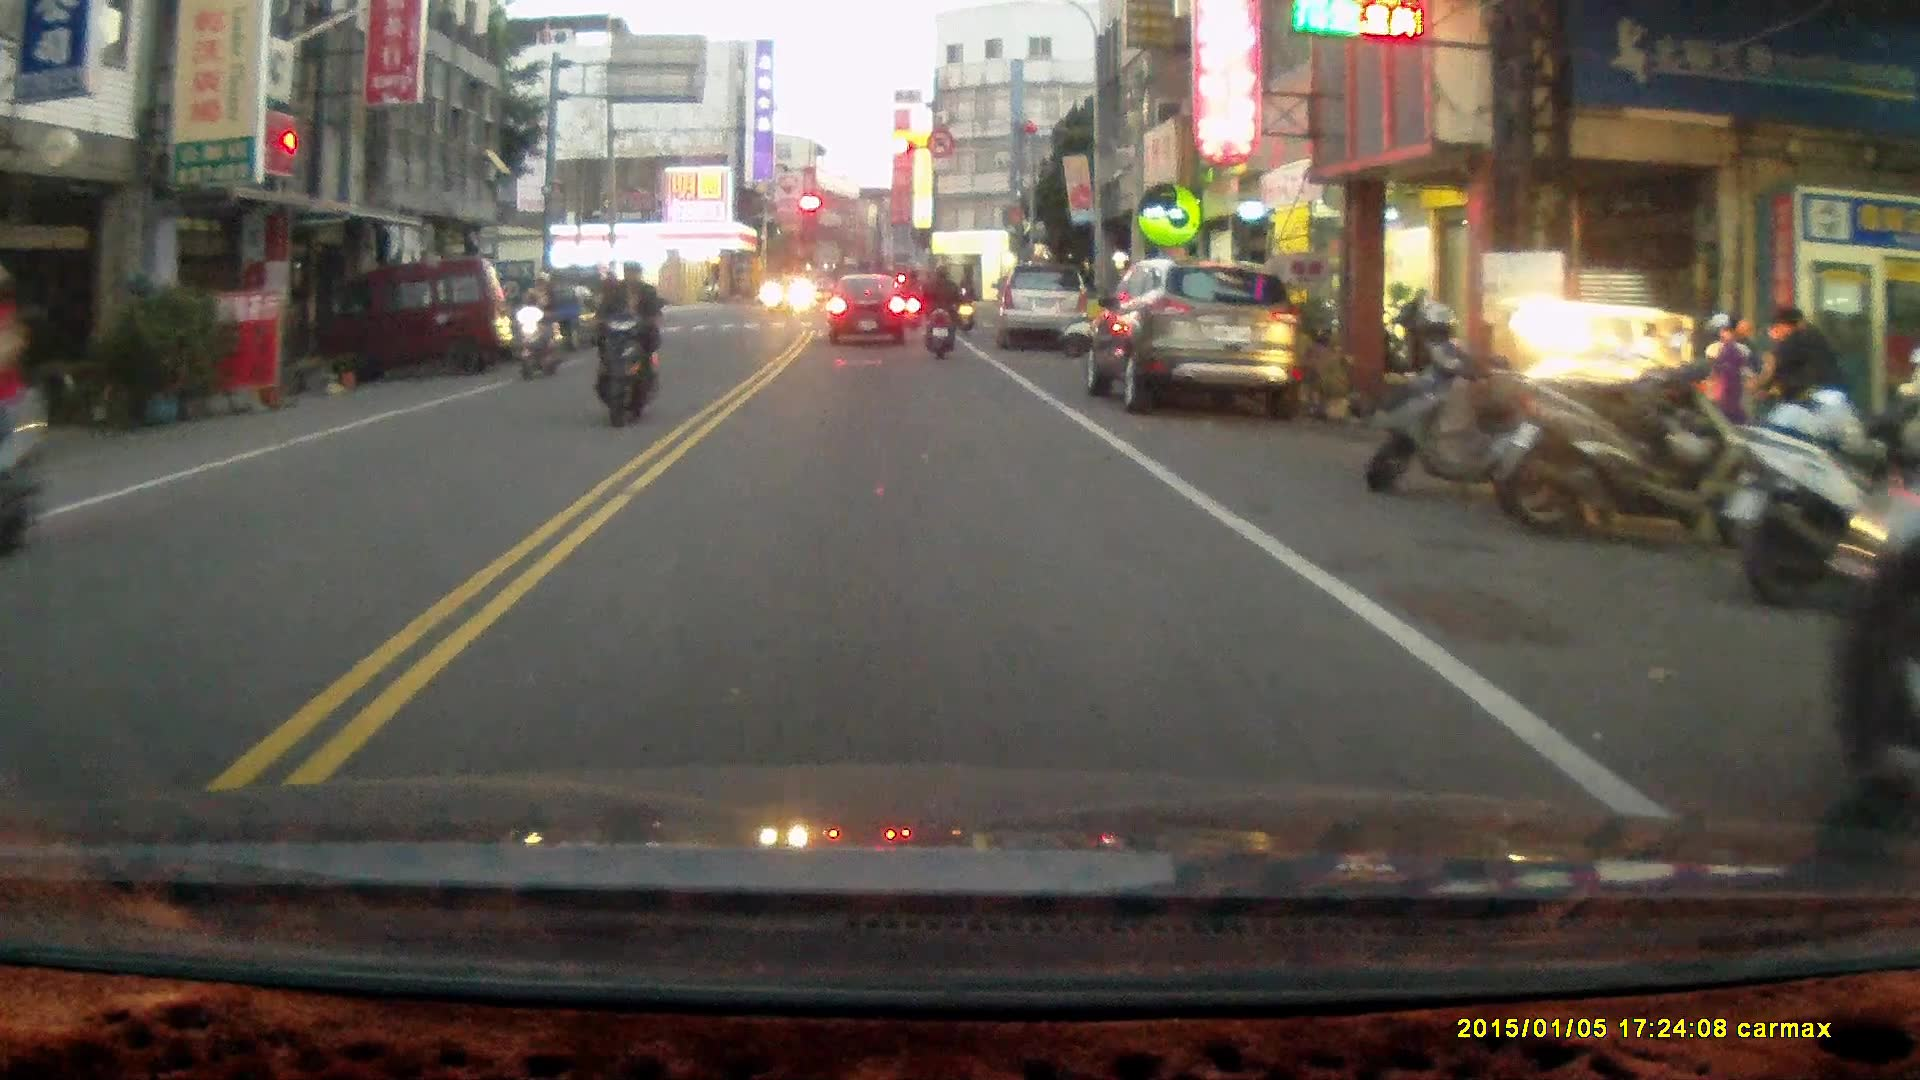pedestrian: (1764, 308, 1837, 479), (1703, 310, 1756, 466)
rider: (0, 255, 46, 565), (582, 258, 661, 427), (511, 267, 568, 382), (915, 262, 959, 360), (954, 271, 978, 335), (899, 268, 925, 328)
vehicle: (1087, 259, 1307, 421), (1823, 478, 1920, 827), (311, 257, 516, 387), (1001, 264, 1091, 352), (826, 275, 914, 343)
